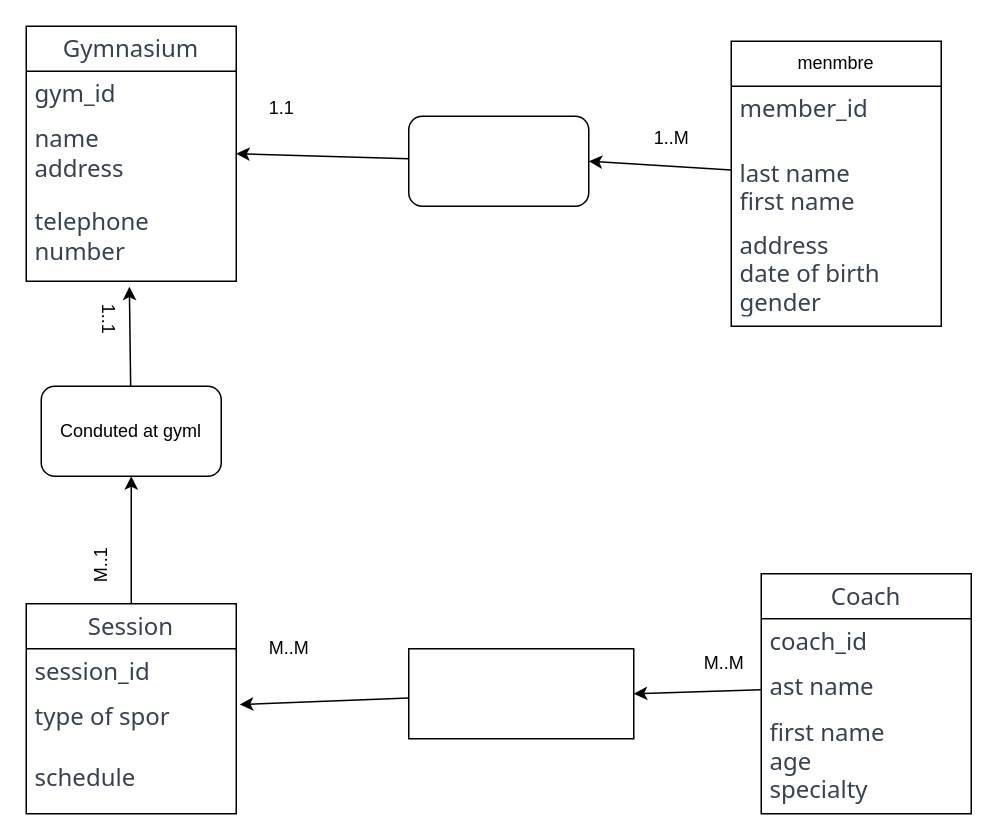
This 998x840 diagram has some shape labels left out. The centre of each missing label's shape, as x and y in pixels:
"Hosts Coaches/ Conducts Sessions" goes at point (520, 693).
"Registers at gym" goes at point (498, 160).
